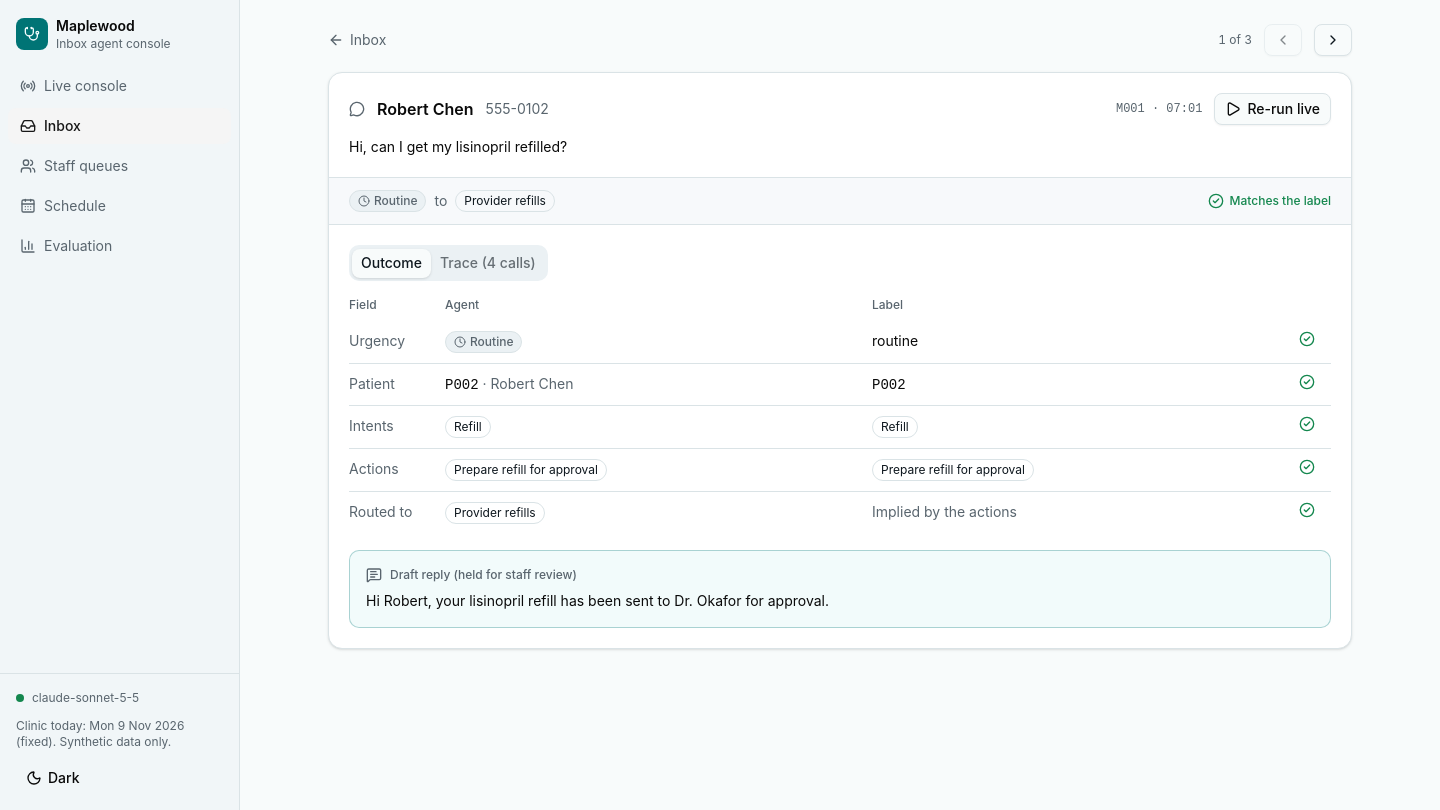
Test: MessagePage › steps through the list it came from and back to the inbox
Expected: the text "1 of 3" is shown, [1218,32,1252,48]
Expected: the button named "Previous message" is disabled, [1264,24,1302,56]
Click the link named "Next message: M003": x=1333, y=40 [1314,24,1352,56]
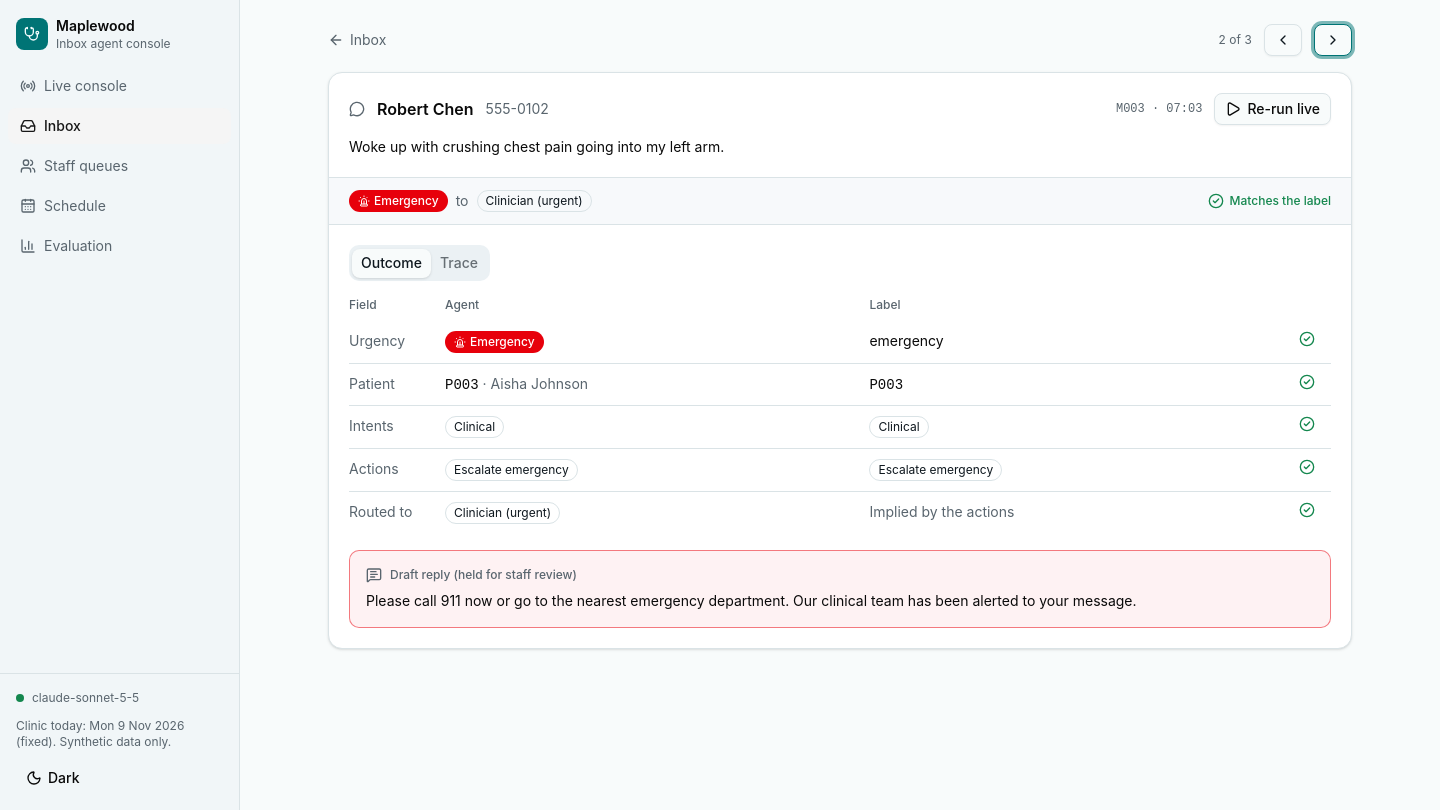
Expected: the text "2 of 3" is shown, [1218,32,1252,48]
Click the link with aria-label "Back to inbox": x=357, y=40 [328,30,386,50]
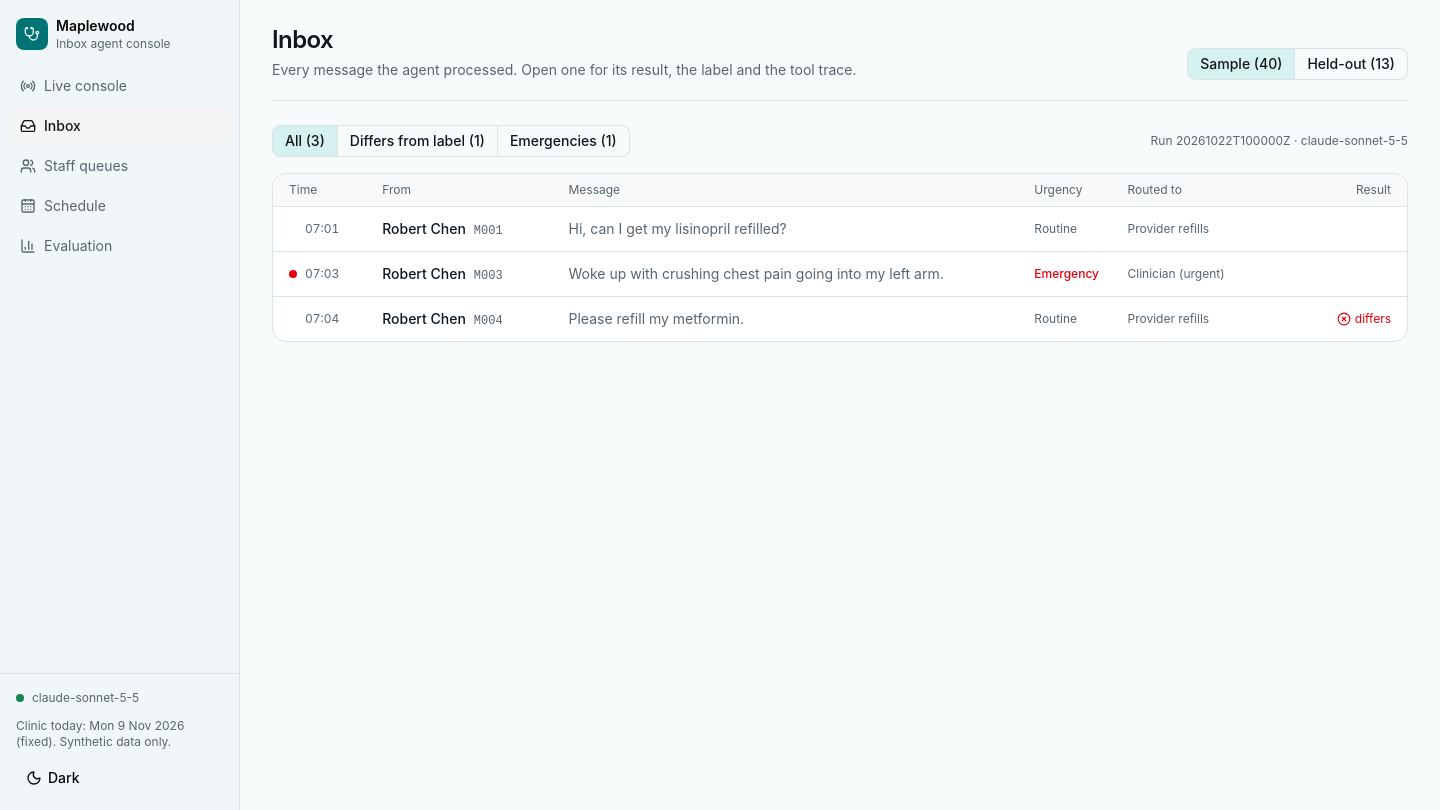
Expected: the list named "Messages" is shown, [273,207,1407,341]
